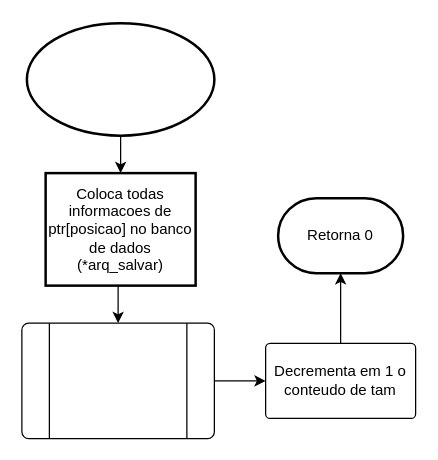
The diagram is 438 pixels wide and 460 high, and some of its shapes have lost their labels. Each missing label, with the box of its shape:
escreveFilmes (Filme *ptr, FILE *arq_salvar, int posicao, int tam): (25, 21, 215, 136)
removeFilme (Remove o filme que foi salvo no banco): (21, 322, 214, 439)
